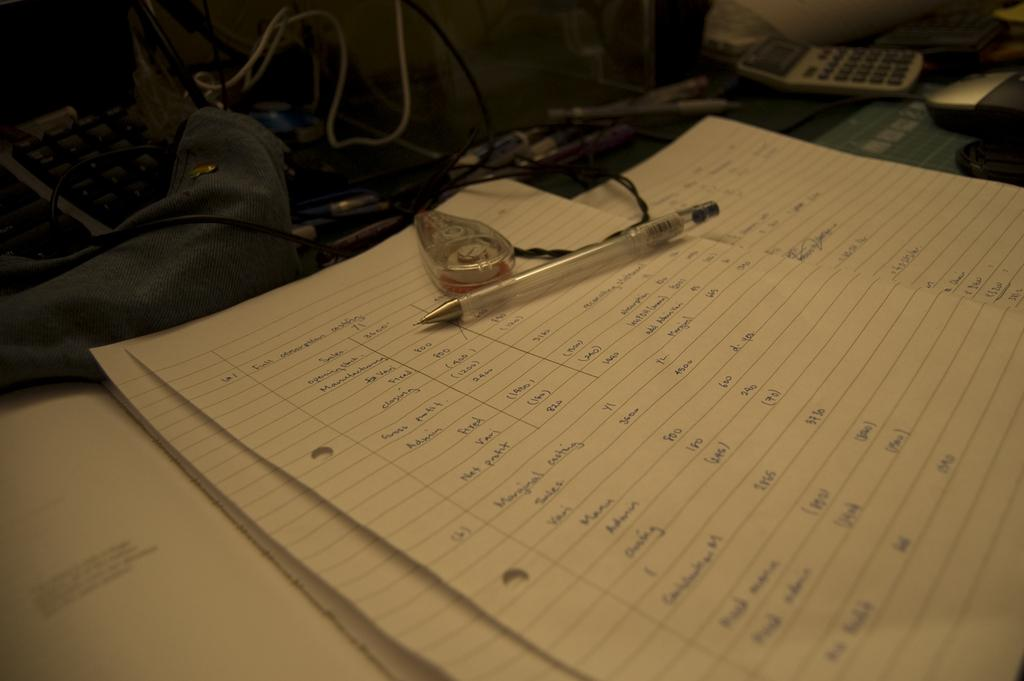pen: (406, 204, 719, 324)
